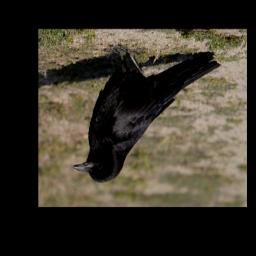Crow: (70, 44, 221, 184)
